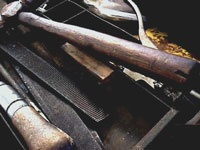hammer: (1, 1, 199, 87)
